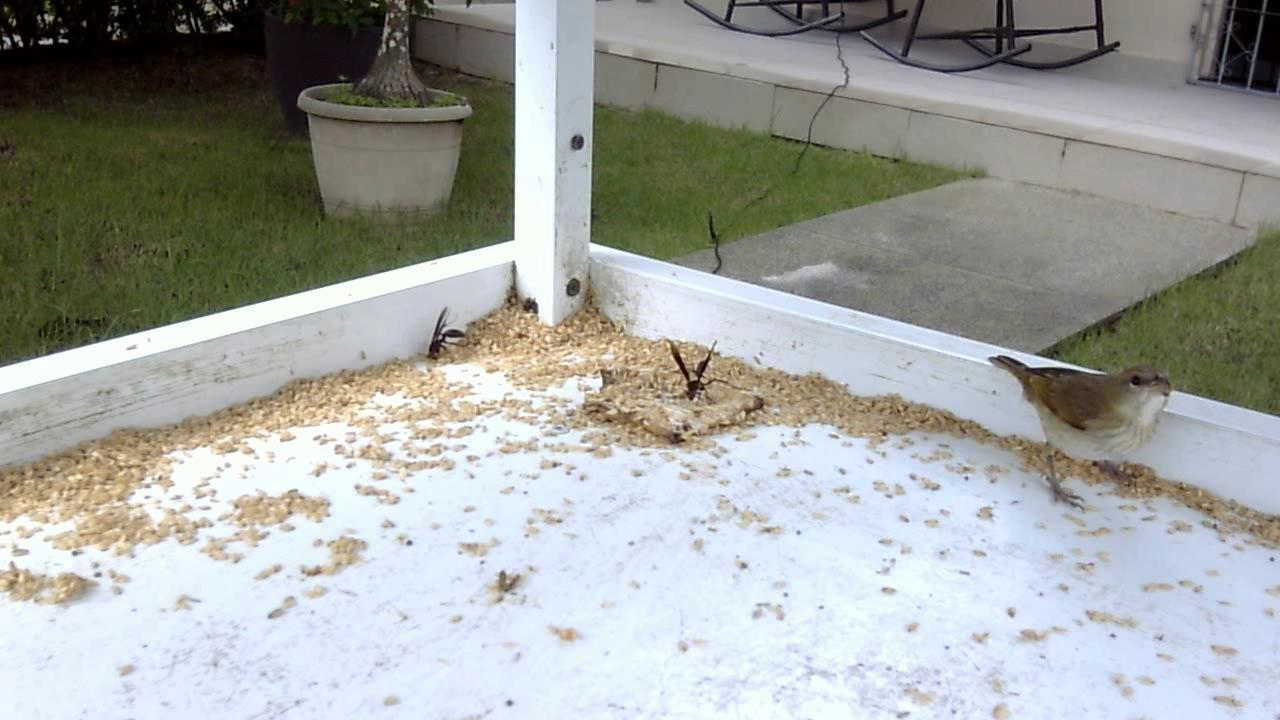canario_do_amazonas: (977, 326, 1179, 510)
